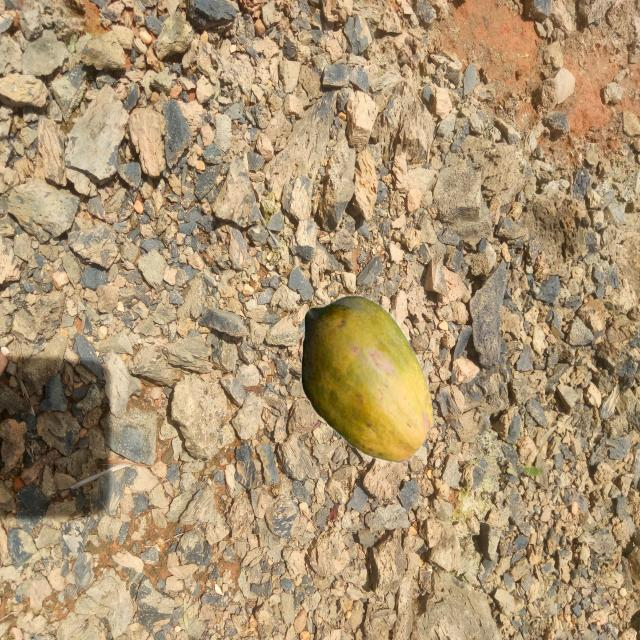Pepaya rippen: (286, 286, 438, 458)
